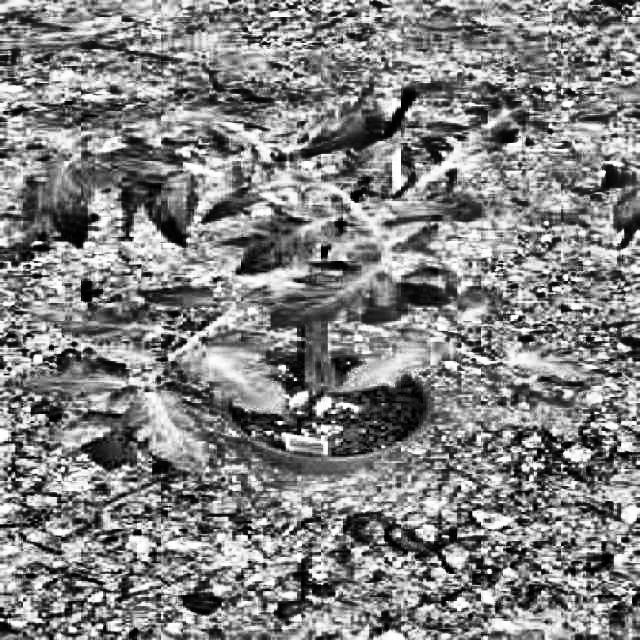plants: (7, 83, 636, 503)
